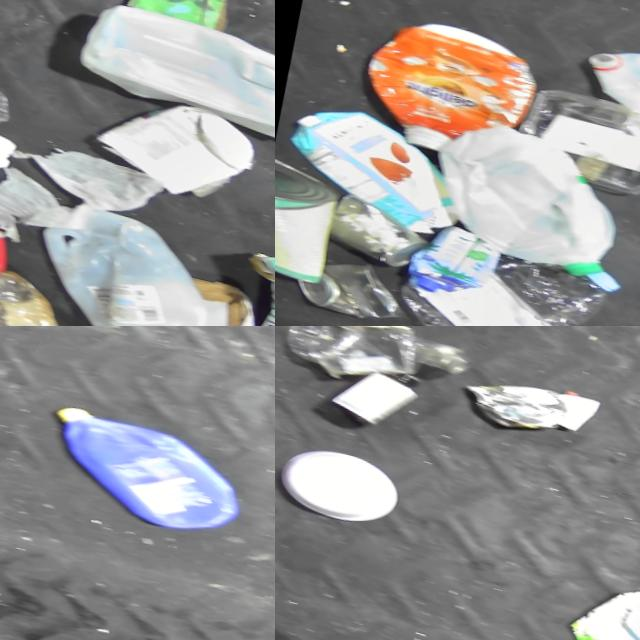can: (286, 247, 411, 326), (322, 190, 434, 275), (275, 155, 345, 285), (455, 368, 569, 439)
milk_jug: (413, 112, 632, 283), (63, 0, 275, 153), (12, 193, 221, 326), (567, 35, 640, 181)
non_white_jug: (14, 390, 250, 546), (275, 95, 473, 240)
plastic_bottle: (385, 223, 621, 326), (275, 326, 478, 408)
